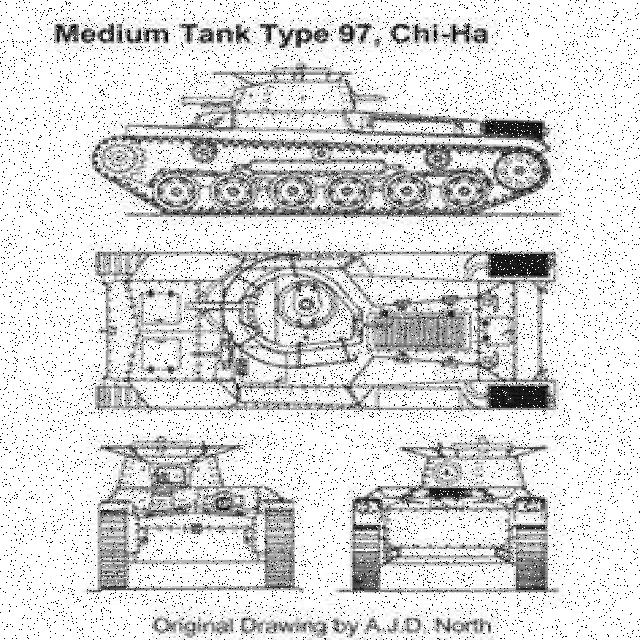MIL_MBT: (92, 248, 556, 418), (94, 72, 546, 211), (102, 435, 299, 607), (360, 431, 543, 593)
